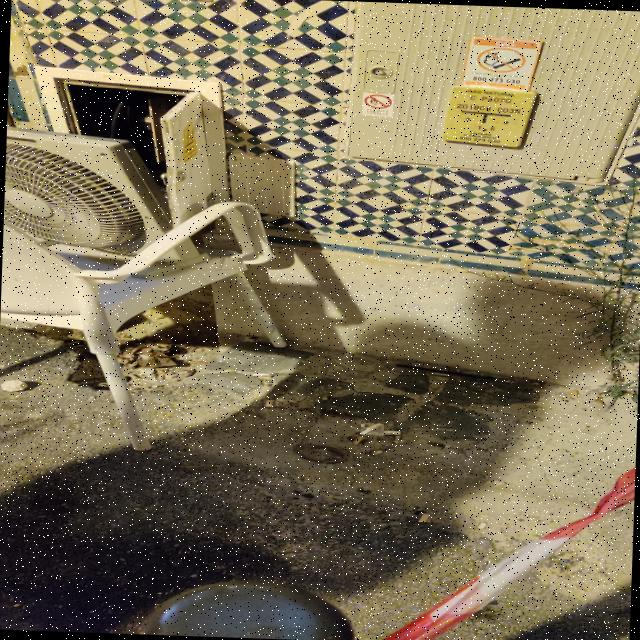Cigarette: (360, 423, 383, 435), (429, 371, 450, 376), (419, 513, 430, 522), (352, 436, 364, 444), (64, 340, 83, 345), (264, 399, 274, 406), (379, 431, 400, 434), (477, 522, 486, 529), (252, 373, 269, 376), (157, 374, 163, 379)
Plastic film: (137, 350, 179, 367)
